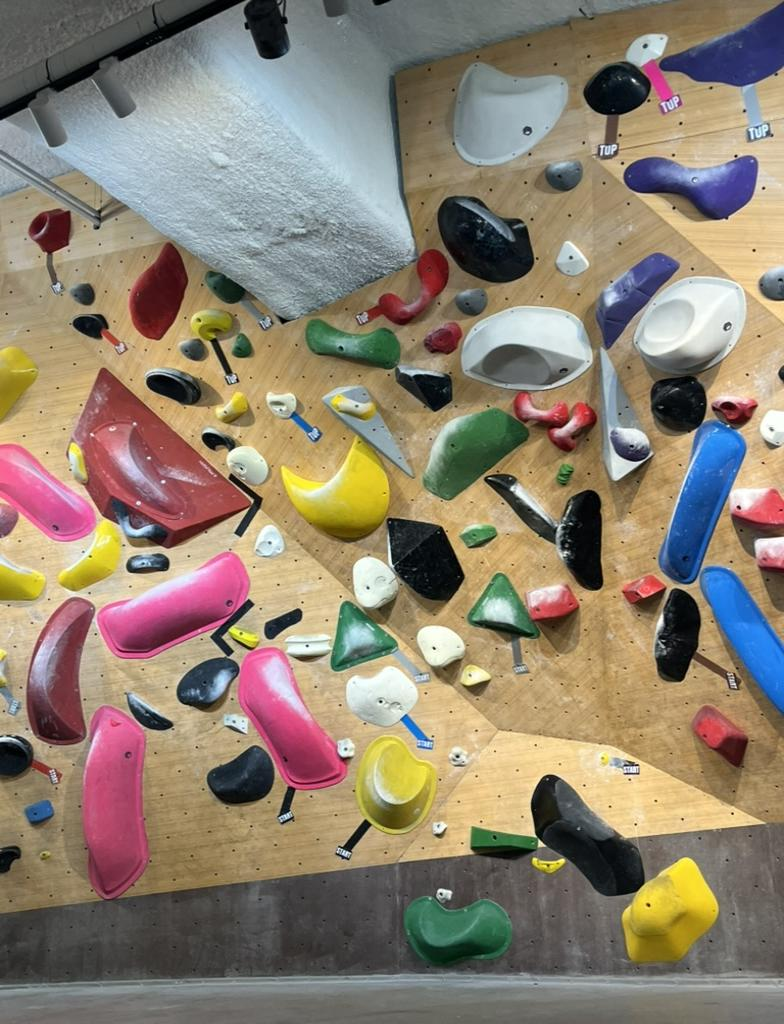crimp: (129, 692, 173, 730), (532, 857, 566, 873)
downhold: (455, 288, 487, 316), (758, 265, 783, 300), (179, 338, 206, 361), (69, 283, 94, 304)
jib: (448, 746, 467, 765), (432, 821, 447, 836)
jug: (129, 242, 187, 338), (375, 249, 448, 323), (548, 403, 596, 451), (526, 583, 578, 621), (513, 392, 568, 426), (228, 446, 267, 485), (610, 427, 649, 461), (191, 309, 232, 340), (72, 314, 107, 338), (267, 393, 296, 417)
ledge: (98, 552, 248, 657), (281, 436, 388, 538), (424, 408, 527, 499), (0, 444, 94, 540)
pinch: (27, 598, 94, 744), (93, 422, 183, 514), (305, 319, 399, 368)
sidepull: (239, 647, 346, 789), (82, 706, 148, 898)
sloper: (438, 196, 533, 282)
tape: (632, 58, 680, 112), (742, 84, 771, 140), (694, 653, 739, 688), (336, 821, 371, 859), (210, 338, 238, 383), (394, 649, 429, 681), (401, 716, 433, 749), (240, 298, 271, 329), (289, 413, 321, 440), (601, 114, 618, 158), (601, 755, 639, 774), (278, 787, 296, 824), (511, 636, 528, 674), (46, 254, 62, 294), (102, 330, 126, 353), (356, 306, 381, 325)
undercling: (177, 657, 239, 707), (353, 556, 397, 608), (416, 625, 463, 666)
volume: (70, 368, 248, 547), (324, 387, 412, 477), (600, 351, 652, 480)
